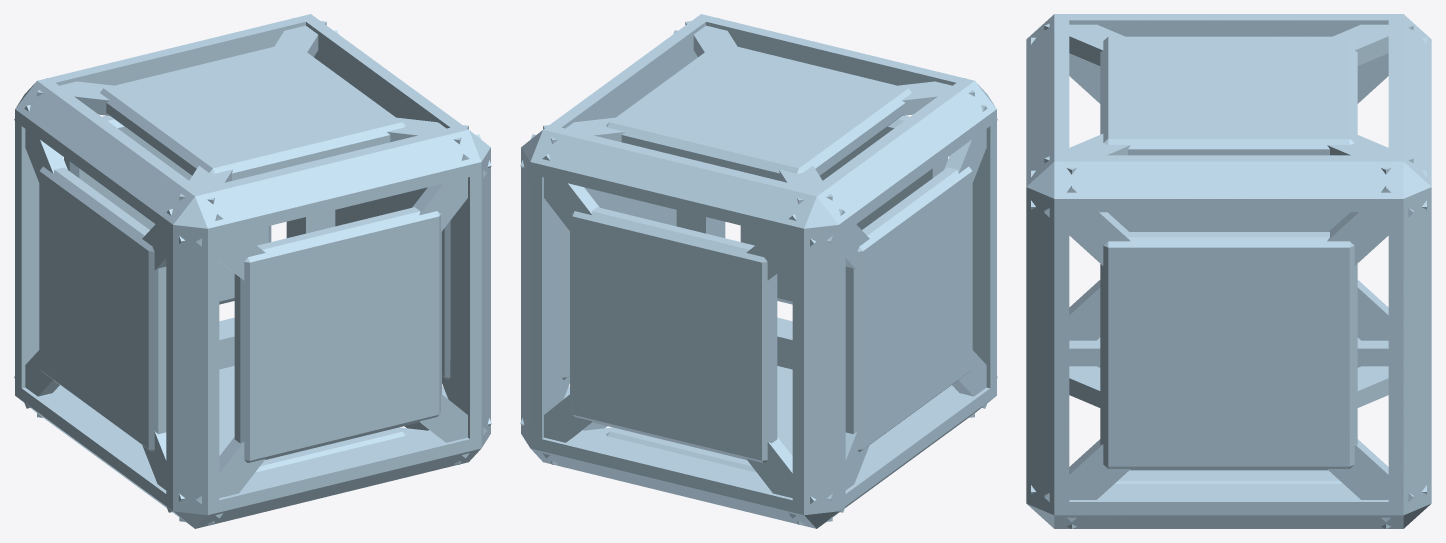
Rendered from R4B_TrussCube.glb.
The picture shows the model from 3 angles, left to right: view 1: azimuth 30°, elevation 25°; view 2: azimuth 150°, elevation 25°; view 3: azimuth 270°, elevation 25°; orthographic projection. The views are drawn at different scales.
Parts seen in each view (by area): view 1: R4B_TrussCube; view 2: R4B_TrussCube; view 3: R4B_TrussCube.
Boxes of the visible parts, x1=… form: R4B_TrussCube: x1=14, y1=14, x2=491, y2=528; R4B_TrussCube: x1=520, y1=14, x2=997, y2=528; R4B_TrussCube: x1=1026, y1=14, x2=1431, y2=528.
Size of the model in its own units: 0.52 by 0.52 by 0.52.
